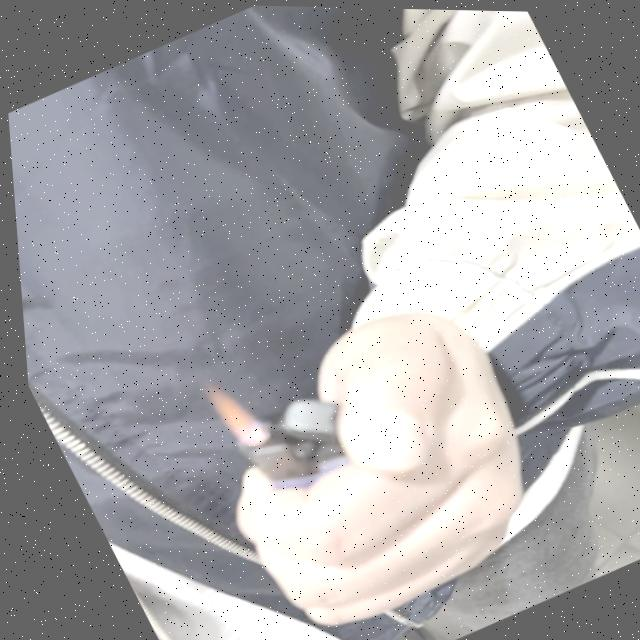Fire: (189, 362, 268, 454)
